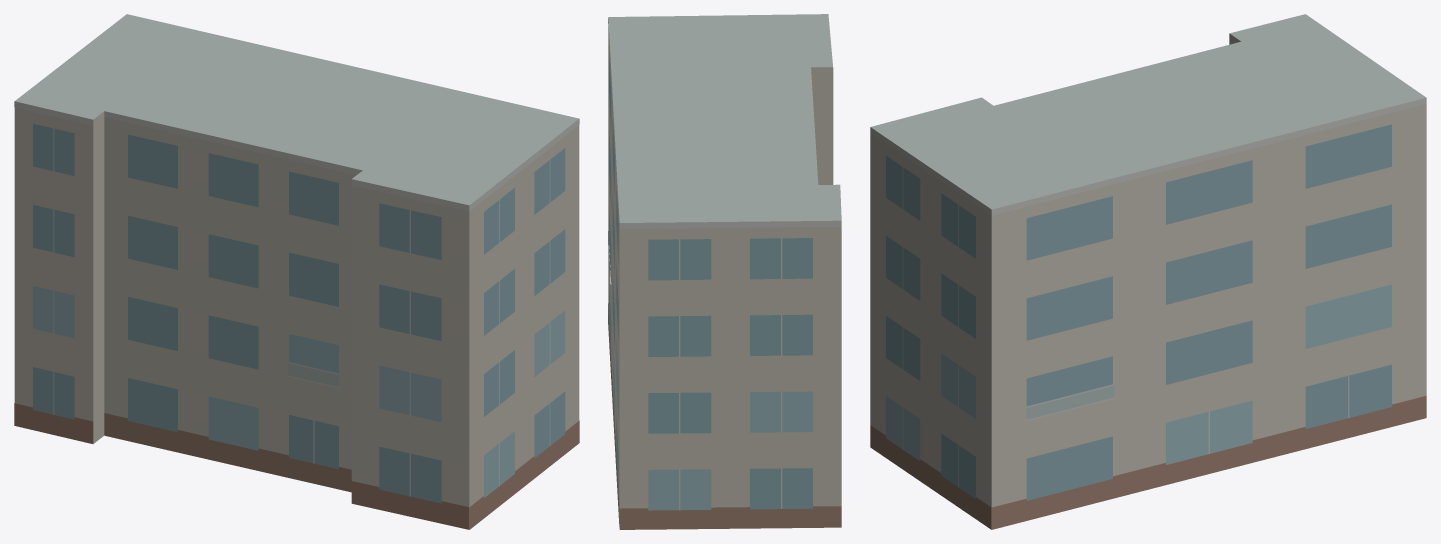
The model's file is survey-upis-32970284.glb.
3 renders of one model, left to right at view 1: azimuth 30°, elevation 25°; view 2: azimuth 150°, elevation 25°; view 3: azimuth 270°, elevation 25°, orthographic. The views are drawn at different scales.
Visible parts, largest first — view 1: survey-upis-32970284.tmp; view 2: survey-upis-32970284.tmp; view 3: survey-upis-32970284.tmp.
Boxes of the visible parts, box(x1,y1,x2,y2) form: survey-upis-32970284.tmp: box(14, 14, 579, 529); survey-upis-32970284.tmp: box(608, 14, 841, 529); survey-upis-32970284.tmp: box(870, 14, 1426, 529).
Bounding box in the file's own units: 16.76 × 12.8 × 20.15.
